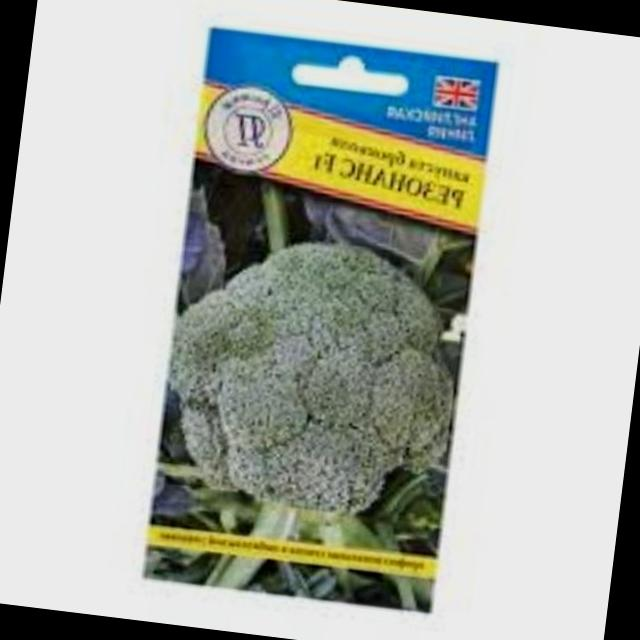Broccoli: (106, 203, 466, 529)
